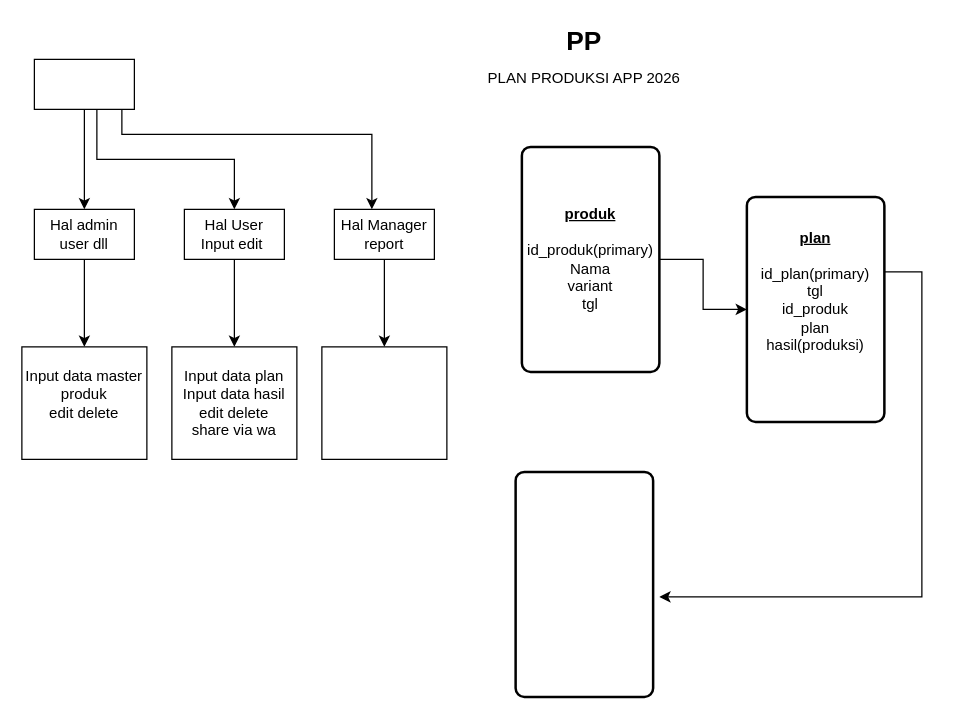
Some shapes in this 954 by 719 pixel diagram are drawn without their labels. Here are the shapes that lost their labels. From the top down, the centre of each, then its label:
At [83,83]: "Login".
At [384,402]: "report harian bulanan tahunan grafik, download pdf, dll".
At [584,584]: "lap id_lap(primary) id_plan".
